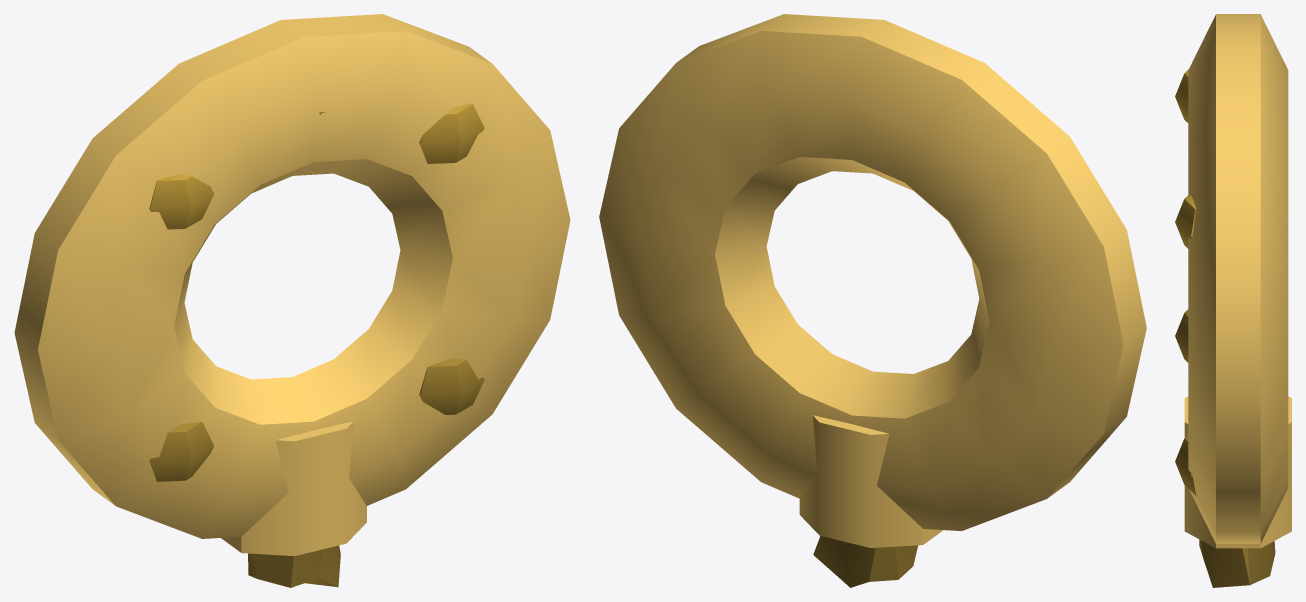
File: 97a_fragment_tete.fbx
The picture shows the model from 3 angles, left to right: view 1: azimuth 30°, elevation 25°; view 2: azimuth 150°, elevation 25°; view 3: azimuth 270°, elevation 25°; orthographic projection. The views are drawn at different scales.
Visible parts, largest first — view 1: Lueur, Fragment; view 2: Lueur, Fragment; view 3: Lueur, Fragment.
Boxes of the visible parts, box(x1,y1,x2,y2) form: Lueur: box(14, 14, 570, 556); Fragment: box(149, 103, 484, 587); Lueur: box(599, 14, 1146, 547); Fragment: box(813, 536, 918, 587); Lueur: box(1184, 14, 1291, 548); Fragment: box(1175, 69, 1275, 587).
Size of the model in its own units: 0.28 by 0.28 by 0.056.
Materials: 1 (1 with a texture image).
